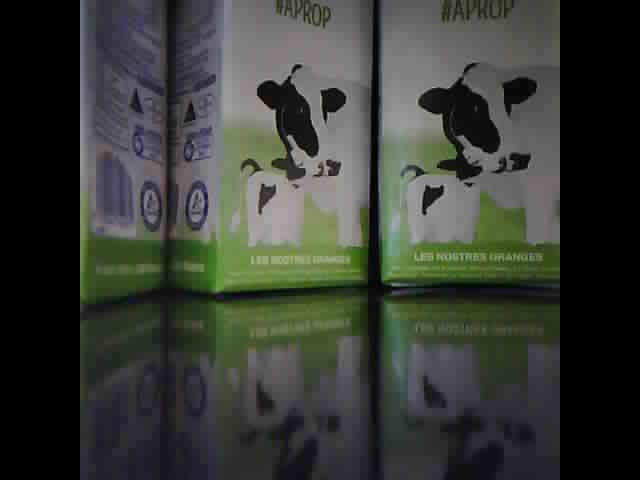leche: (172, 3, 374, 296), (381, 1, 559, 287), (82, 1, 167, 304)
